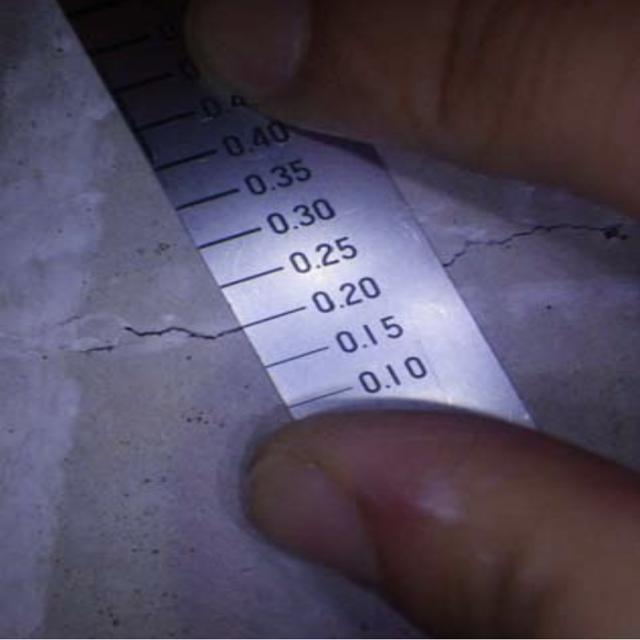crack: (427, 186, 637, 293), (36, 303, 243, 370)
